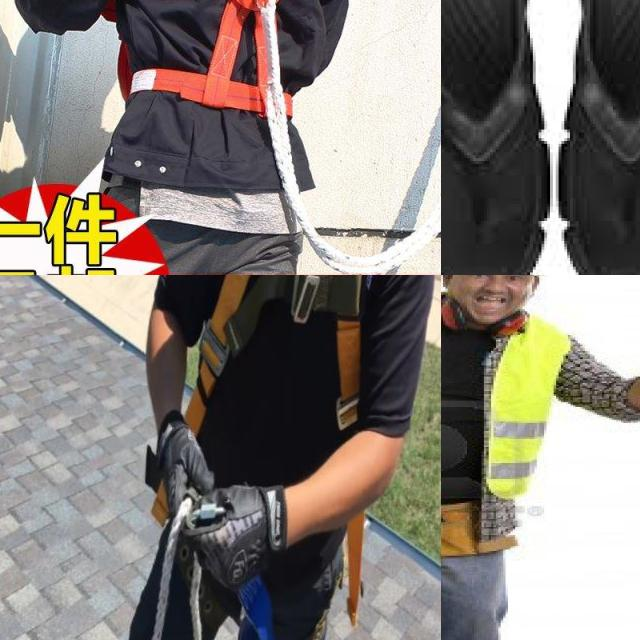Harness: (187, 275, 363, 434), (112, 0, 306, 115)
Sandals: (441, 0, 640, 275)
face_nomask: (452, 275, 535, 329)
person: (441, 275, 607, 640)
vest: (441, 299, 534, 493)
